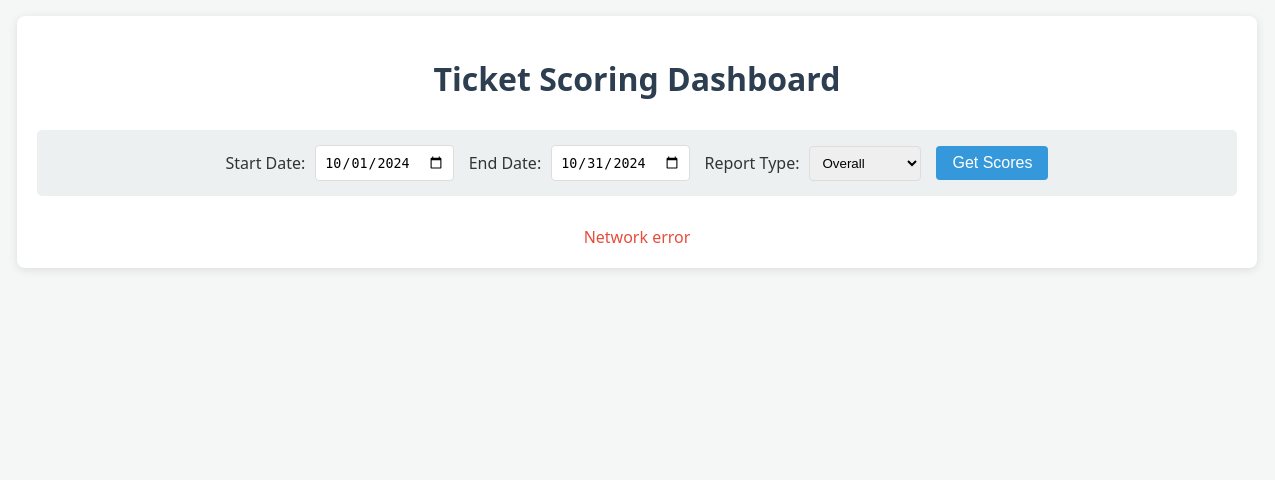
Test: App › Edge Cases › clears error message on successful fetch after error
Check: the text "Network error" is shown, box x1=584 y1=226 x2=690 y2=248
Click the button "Get Scores" at x=992, y=163, box x1=936 y1=146 x2=1048 y2=180
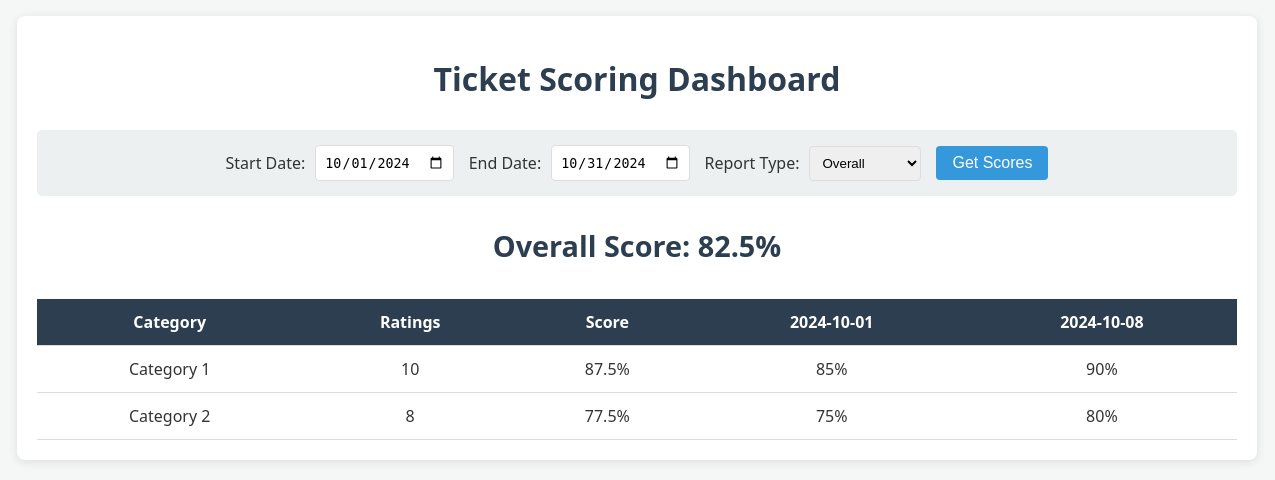
Check: the text "Network error" is gone
